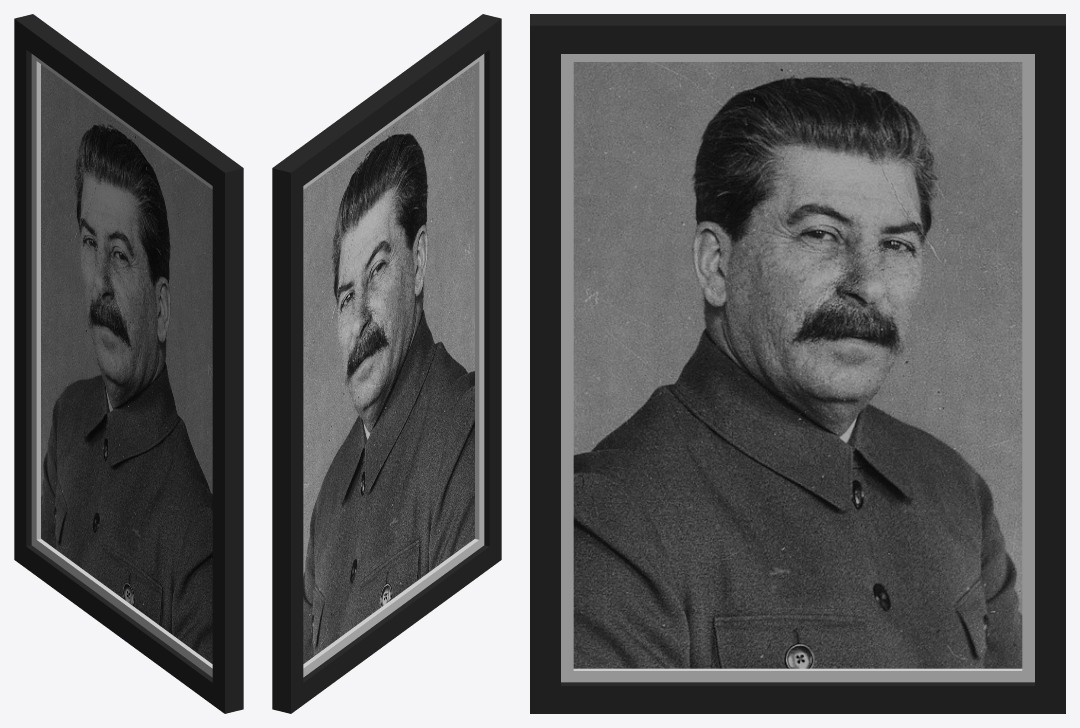
The model's file is potrait_stalin.fbx.
The picture shows the model from 3 angles, left to right: view 1: azimuth 30°, elevation 25°; view 2: azimuth 150°, elevation 25°; view 3: azimuth 270°, elevation 25°; orthographic projection. The views are drawn at different scales.
Parts seen in each view (by area): view 1: stalin potrait; view 2: stalin potrait; view 3: stalin potrait.
Part boxes in pixels (box(x1,y1,x2,y2)): stalin potrait: box(14, 14, 243, 713); stalin potrait: box(272, 14, 501, 713); stalin potrait: box(530, 14, 1065, 713).
Size of the model in its own units: 3.04 by 82.83 by 58.45.
Materials: 3 (1 with a texture image).
